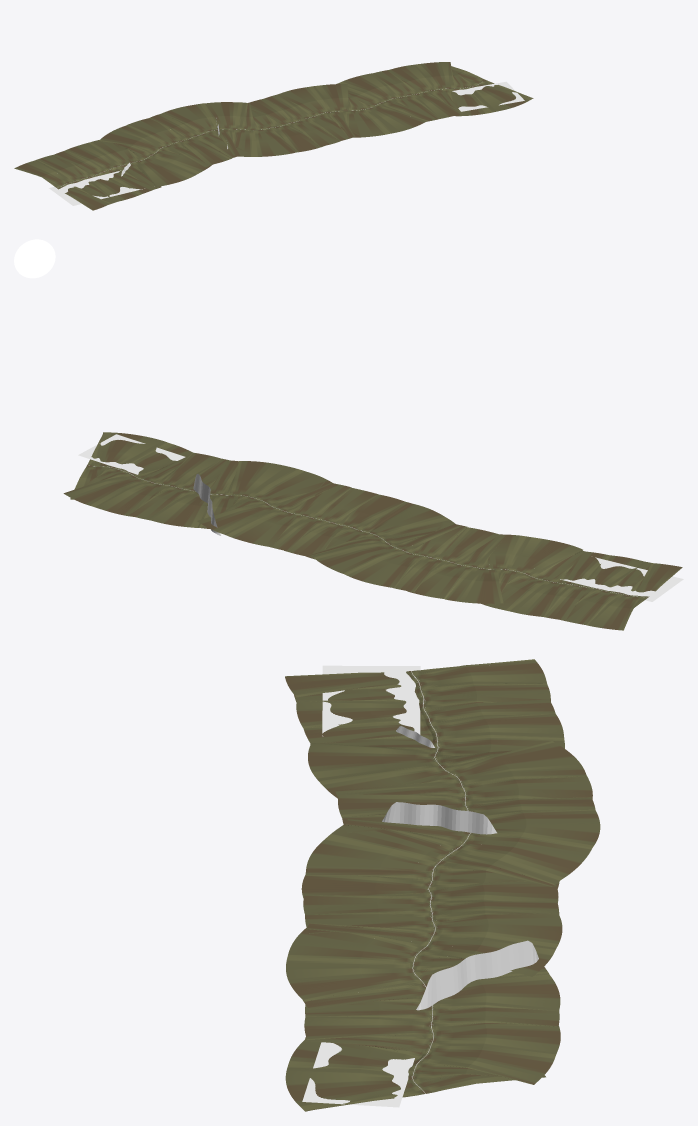
File: skye.glb
3 views of the same model, one above another, from view 1: azimuth 30°, elevation 25°; view 2: azimuth 150°, elevation 25°; view 3: azimuth 270°, elevation 25° (orthographic). The views are drawn at different scales.
Parts seen in each view (by area): view 1: SkyeMoor_014, SkyeMoor_011, SkyeMoor_039, SeaLochs_003, SkyeMoor_026, SkyeMoor_052, SkyeMoor_028, SkyeMoor_037, SkyeMoor_042, SkyeMoor_019, SkyeMoor_000, SkyeMoor_017 (+44 smaller); view 2: Sun, SkyeMoor_014, SkyeMoor_011, SkyeMoor_039, SeaLochs_003, SkyeMoor_026, SkyeMoor_052, SkyeMoor_028, SkyeMoor_021, SkyeMoor_037, SkyeMoor_016, SkyeMoor_020 (+45 smaller); view 3: SkyeMoor_039, SkyeMoor_026, SkyeMoor_014, SkyeMoor_037, SkyeMoor_052, SkyeMoor_028, SeaLochs_003, SkyeMoor_048, SkyeMoor_045, SkyeMoor_011, SkyeMoor_023, SkyeMoor_022 (+49 smaller).
Boxes of the visible parts, box(x1,y1,x2,y2) form: SkyeMoor_014: box(102, 126, 180, 155); SkyeMoor_011: box(128, 148, 193, 184); SkyeMoor_039: box(357, 99, 426, 131); SeaLochs_003: box(49, 170, 144, 205); SkyeMoor_026: box(254, 119, 297, 156); SkyeMoor_052: box(462, 77, 530, 110); SkyeMoor_028: box(266, 115, 322, 152); SkyeMoor_037: box(348, 98, 383, 137); SkyeMoor_042: box(340, 75, 407, 107); SkyeMoor_019: box(159, 113, 243, 157); SkyeMoor_000: box(14, 168, 110, 210); SkyeMoor_017: box(149, 118, 225, 165); Sun: box(14, 239, 55, 278); SkyeMoor_014: box(449, 554, 508, 603); SkyeMoor_011: box(506, 537, 571, 583); SkyeMoor_039: box(233, 461, 286, 504); SeaLochs_003: box(560, 557, 683, 601); SkyeMoor_026: box(351, 502, 437, 540); SkyeMoor_052: box(97, 432, 155, 476); SkyeMoor_028: box(333, 494, 404, 536); SkyeMoor_021: box(344, 539, 428, 583); SkyeMoor_037: box(238, 471, 332, 507); SkyeMoor_016: box(411, 551, 476, 598); SkyeMoor_020: box(370, 523, 458, 587); SkyeMoor_039: box(286, 965, 454, 999); SkyeMoor_026: box(305, 846, 485, 874); SkyeMoor_014: box(408, 745, 585, 784); SkyeMoor_037: box(288, 928, 464, 960); SkyeMoor_052: box(285, 1074, 461, 1107); SkyeMoor_028: box(301, 874, 481, 897); SeaLochs_003: box(322, 665, 420, 736); SkyeMoor_048: box(305, 1033, 556, 1067); SkyeMoor_045: box(304, 1016, 559, 1030); SkyeMoor_011: box(308, 751, 487, 777); SkyeMoor_023: box(412, 833, 581, 881); SkyeMoor_022: box(345, 822, 592, 862).
Size of the model in its own units: 16640 by 2575 by 6329.
